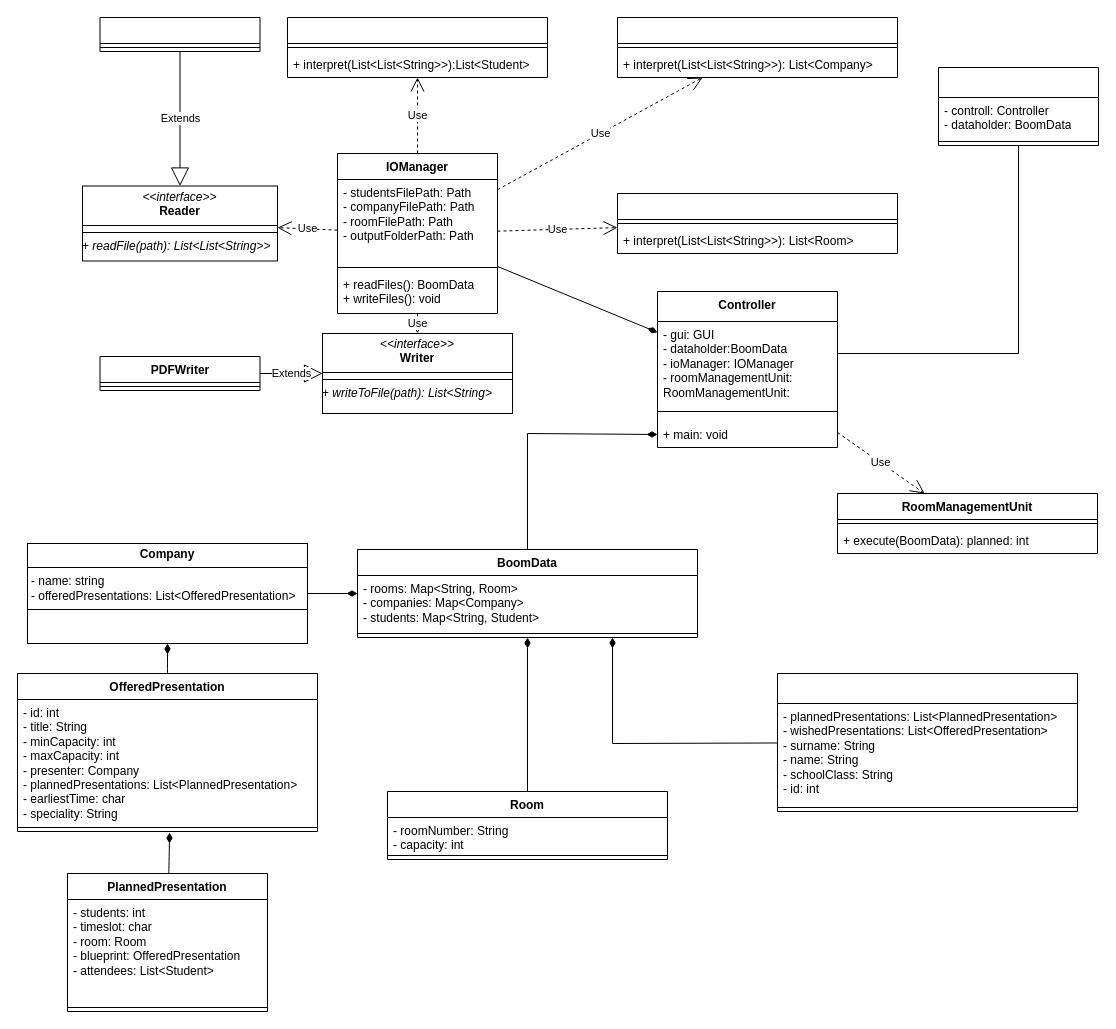
This 1116x1029 diagram has some shape labels left out. The box of each missing label's shape, as (x1, y1, x2, y2) in pixels:
CompanyInterpreter: (616, 16, 898, 78)
GUI: (938, 66, 1098, 146)
RoomInterpreter: (616, 192, 898, 254)
Student: (776, 672, 1078, 812)
StudentInterpreter: (286, 16, 548, 78)
XlsxReader: (99, 16, 260, 52)
